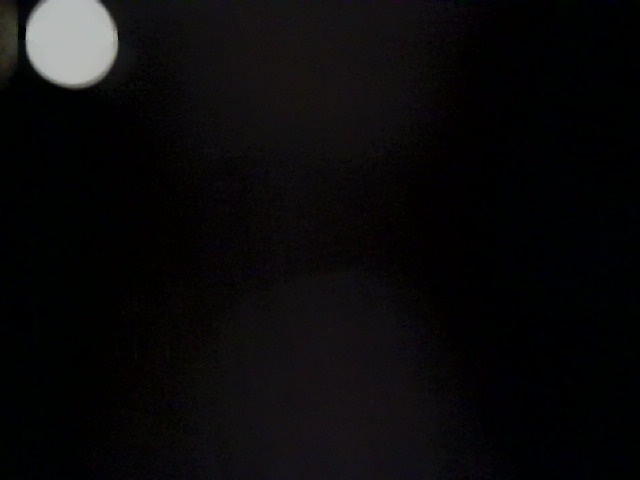QTLJ: (323, 106, 518, 269)
